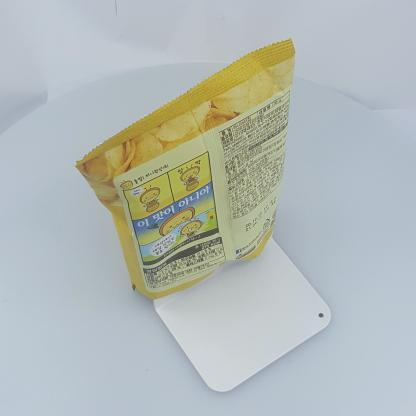Plastic Packaging: (69, 26, 321, 310)
